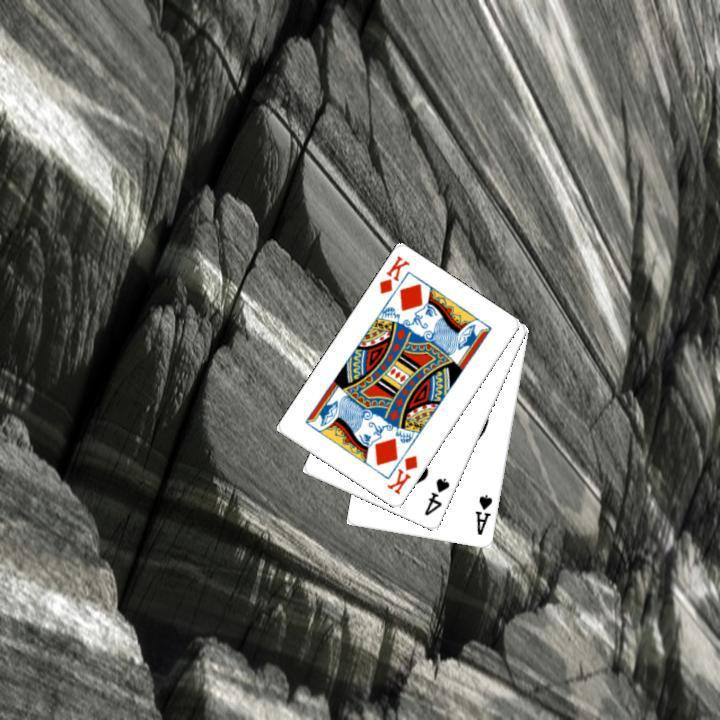4: (420, 474, 452, 518)
A: (471, 491, 494, 538)
K: (382, 451, 420, 497), (375, 251, 412, 297)
